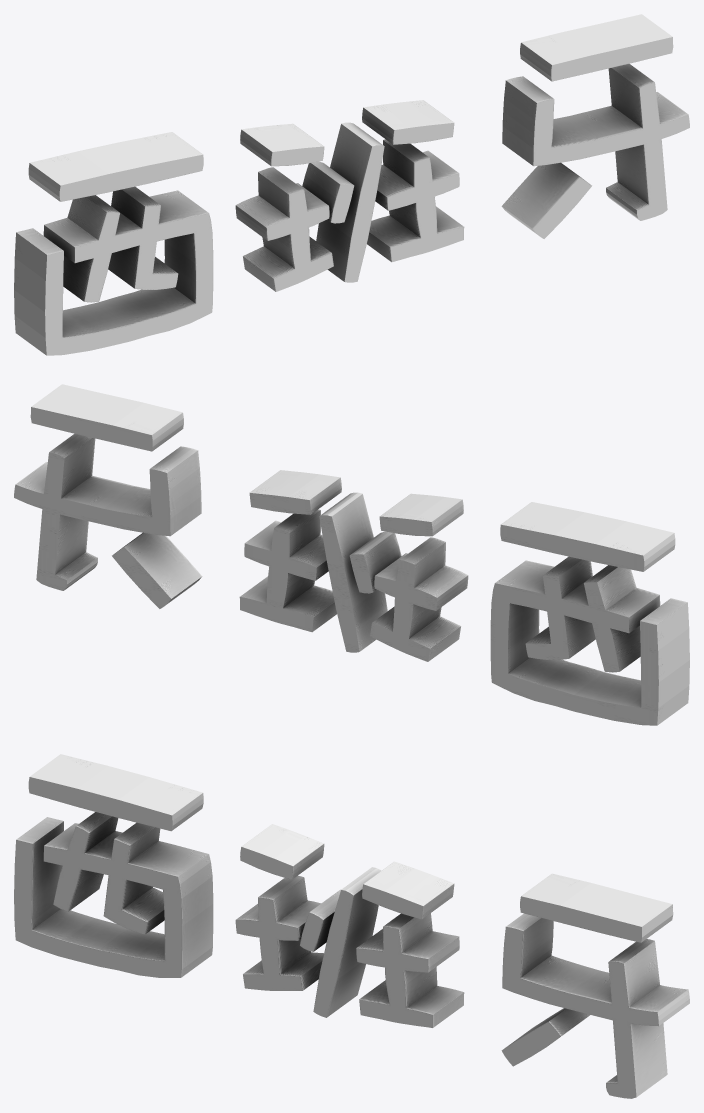
The model's file is spain [chs].DAE.
The picture shows the model from 3 angles, top to bottom: view 1: azimuth 30°, elevation 25°; view 2: azimuth 150°, elevation 25°; view 3: azimuth 330°, elevation 25°; orthographic projection.
Parts seen in each view (by area): view 1: objpolymsh; view 2: objpolymsh; view 3: objpolymsh.
Part boxes in pixels (x1,y1,x2,y2): objpolymsh: (14,14,689,355); objpolymsh: (14,384,689,725); objpolymsh: (14,754,689,1098).
Bounding box in the file's own units: 9.44 × 0.7882 × 2.48.
1 material, 1 textured.
